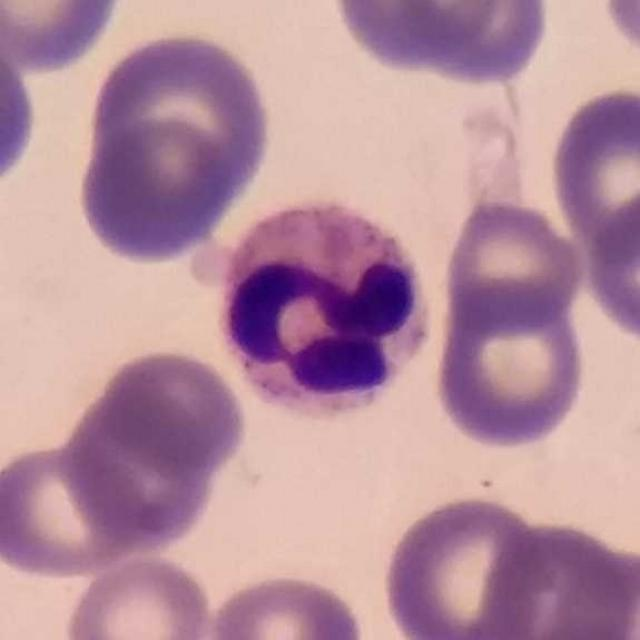Neutrophil: (211, 190, 441, 430)
RBC: (77, 25, 279, 258), (57, 381, 225, 555), (428, 286, 590, 452), (379, 489, 552, 640), (90, 345, 251, 476), (1, 438, 147, 582), (471, 516, 640, 640), (437, 196, 588, 333), (545, 83, 640, 256), (60, 551, 217, 640), (334, 0, 506, 76), (404, 0, 558, 83), (202, 569, 370, 640), (0, 0, 132, 75), (580, 186, 640, 349), (0, 15, 41, 198), (596, 0, 640, 67)
